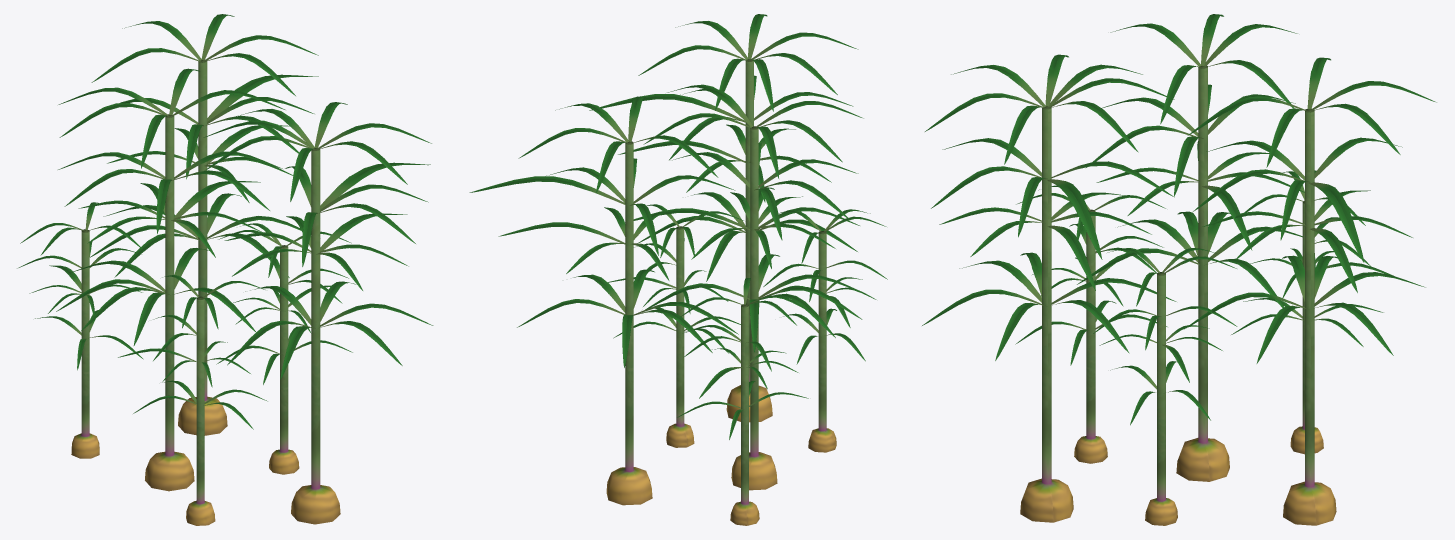
File: Model_PlantaMaduraGengibreTexture_v1.fbx
The picture shows the model from 3 angles, left to right: view 1: azimuth 30°, elevation 25°; view 2: azimuth 150°, elevation 25°; view 3: azimuth 270°, elevation 25°; orthographic projection. The views are drawn at different scales.
Visible parts, largest first — view 1: gengibre maduro.048; view 2: gengibre maduro.048; view 3: gengibre maduro.048.
Boxes of the visible parts, x1,y1,x2,y2 form: gengibre maduro.048: (17, 14, 433, 525); gengibre maduro.048: (469, 14, 887, 525); gengibre maduro.048: (922, 14, 1436, 525).
Size of the model in its own units: 160 by 177 by 198.
1 material, 1 textured.
